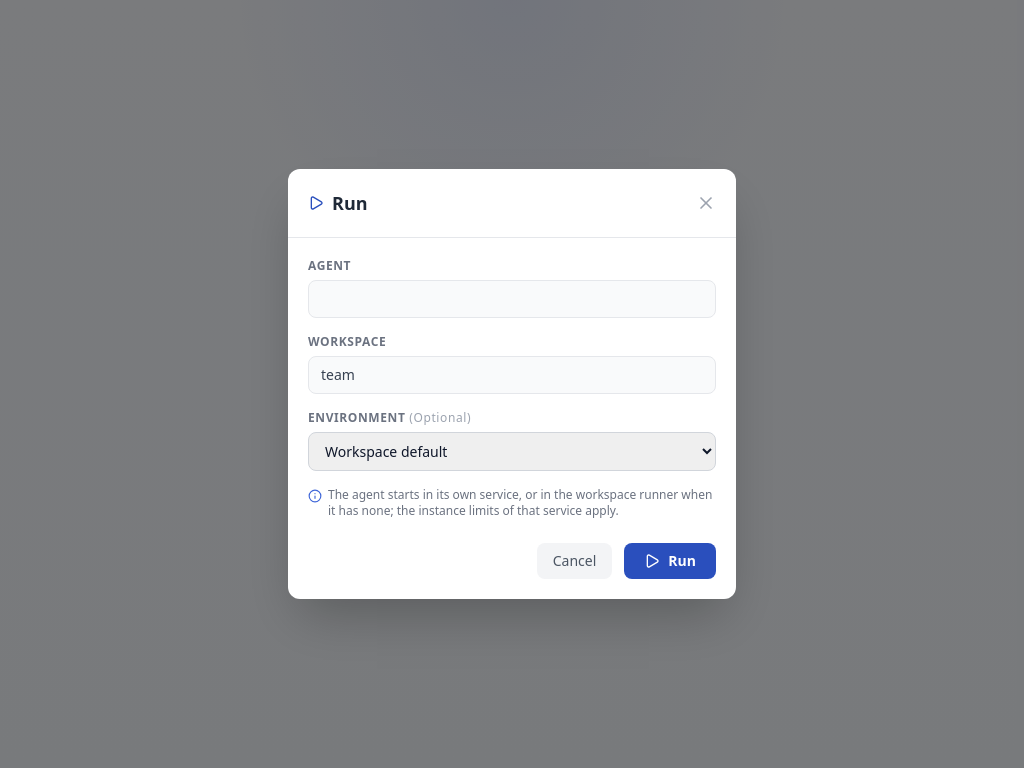
Test: StartInstanceModal › shows the backend refusal inside the form
This screenshot has width=1024, height=768.
Click the button "Run". click: click(670, 561)
box: 624,543 -> 716,579
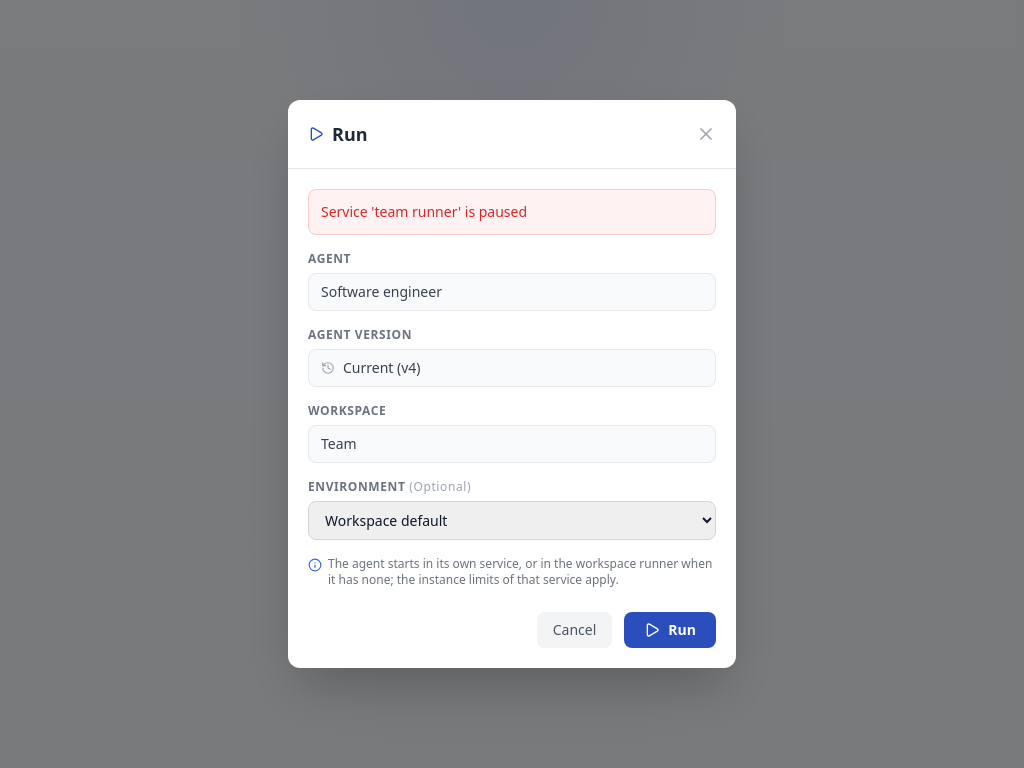
Result: the text "Service 'team runner' is paused" is shown at 308,189 -> 716,235
